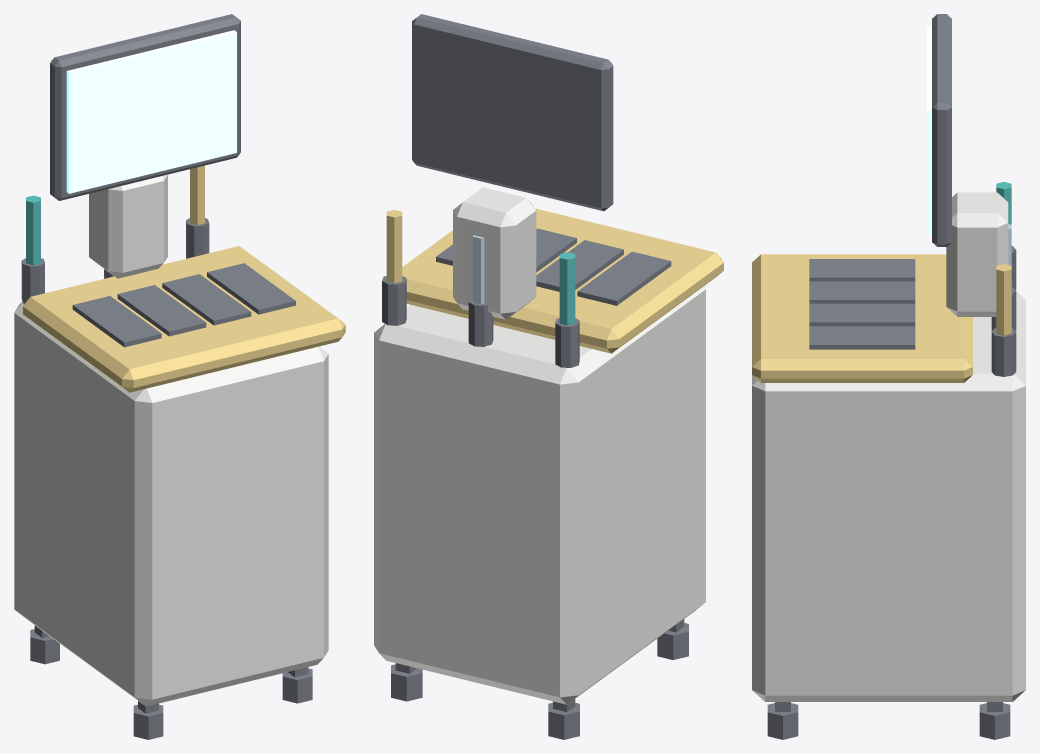
The model's file is medical-23604.glb.
3 views of the same model, side by side, from view 1: azimuth 30°, elevation 25°; view 2: azimuth 150°, elevation 25°; view 3: azimuth 270°, elevation 25° (orthographic). The views are drawn at different scales.
Visible parts, largest first — view 1: ultrasound-cart; view 2: ultrasound-cart; view 3: ultrasound-cart.
Boxes of the visible parts, <box> form: ultrasound-cart: <box>14,14,345,739</box>; ultrasound-cart: <box>374,14,723,739</box>; ultrasound-cart: <box>752,14,1025,739</box>.
Size of the model in its own units: 0.6 by 1.59 by 0.62.
